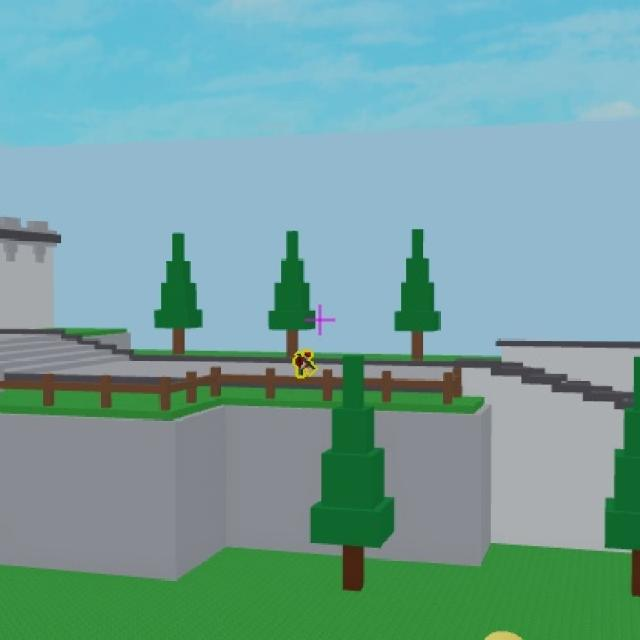player: (292, 348, 314, 374)
